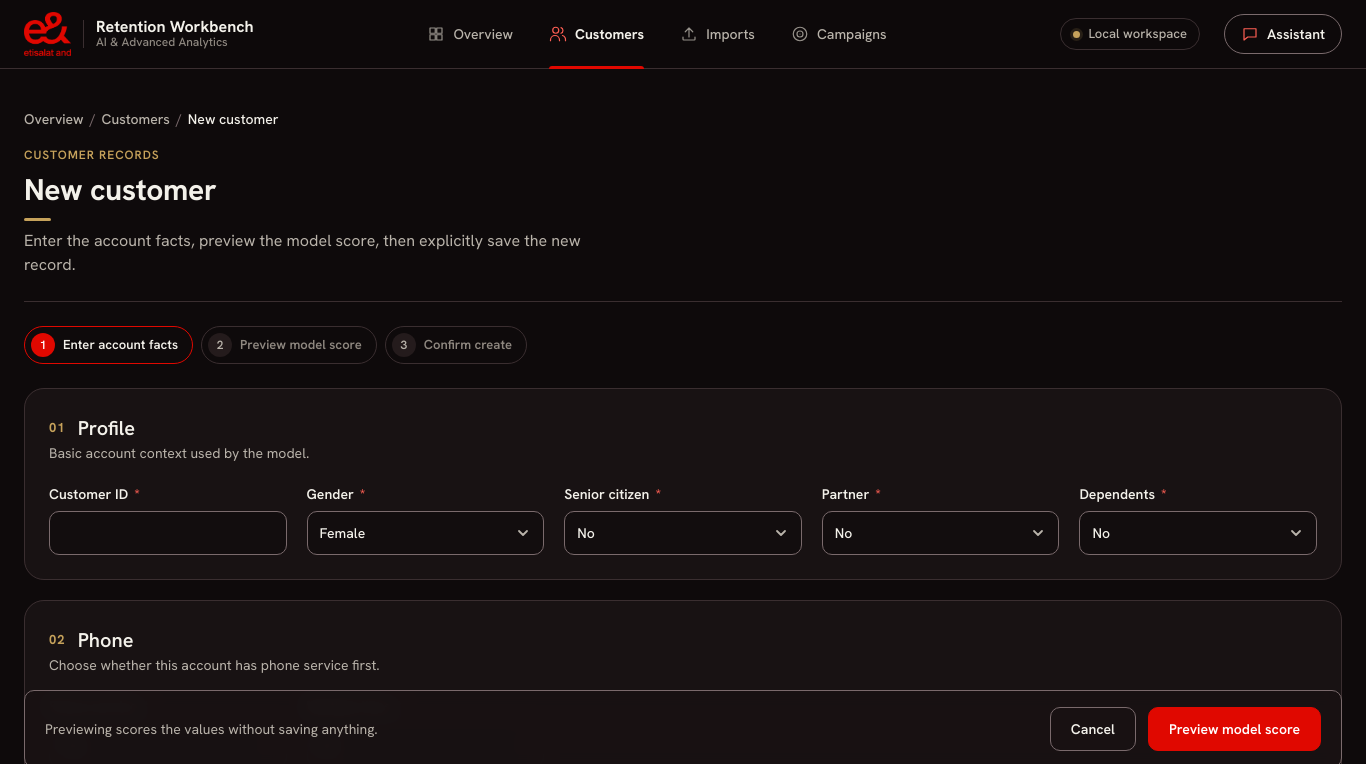
customer browser journeys › previews then explicitly persists a new customer
Expected: the heading "New customer" is shown, [24,170,216,209]
Type "journey-001" into the field labelled "Customer ID" at [168, 533], box [49,511,287,555]
(page scrolled)
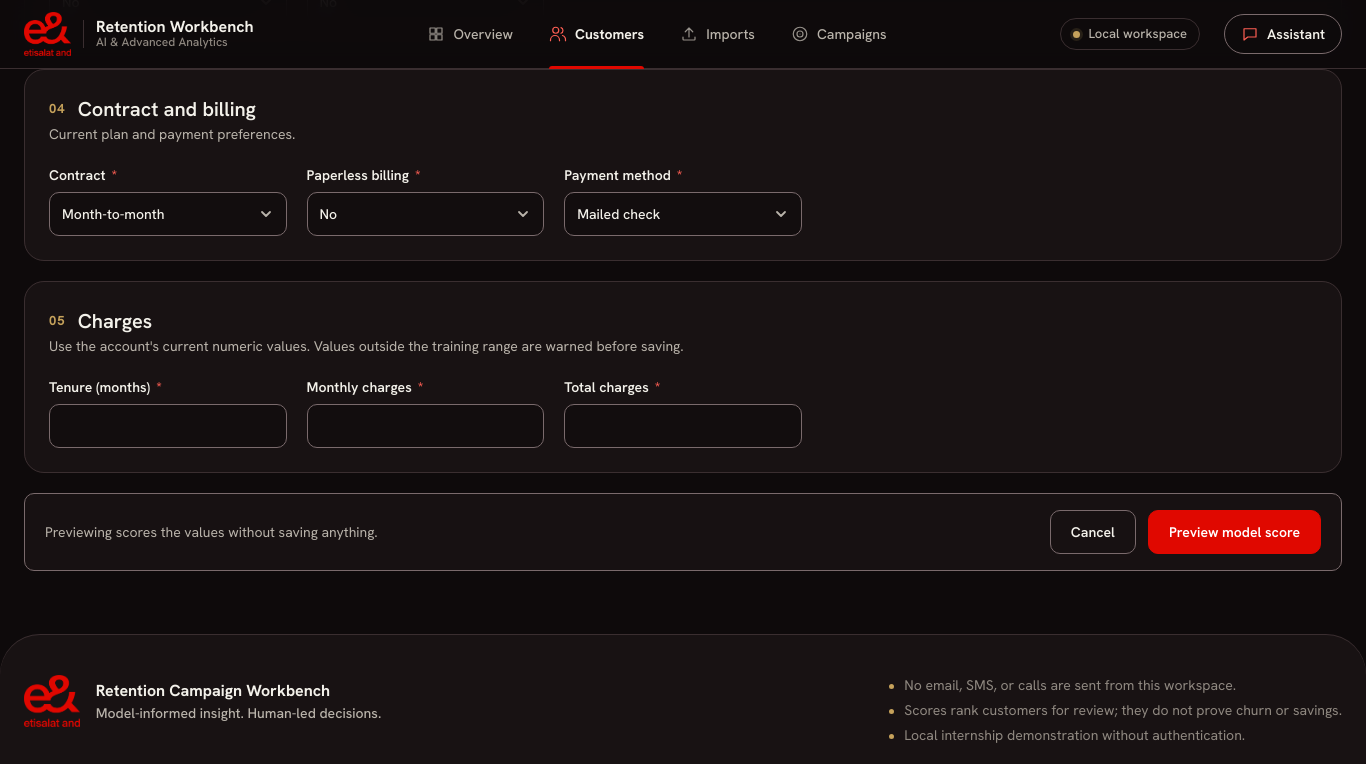
Type "3" into the number field labelled "Tenure (months)" at [168, 426], box [49,404,287,448]
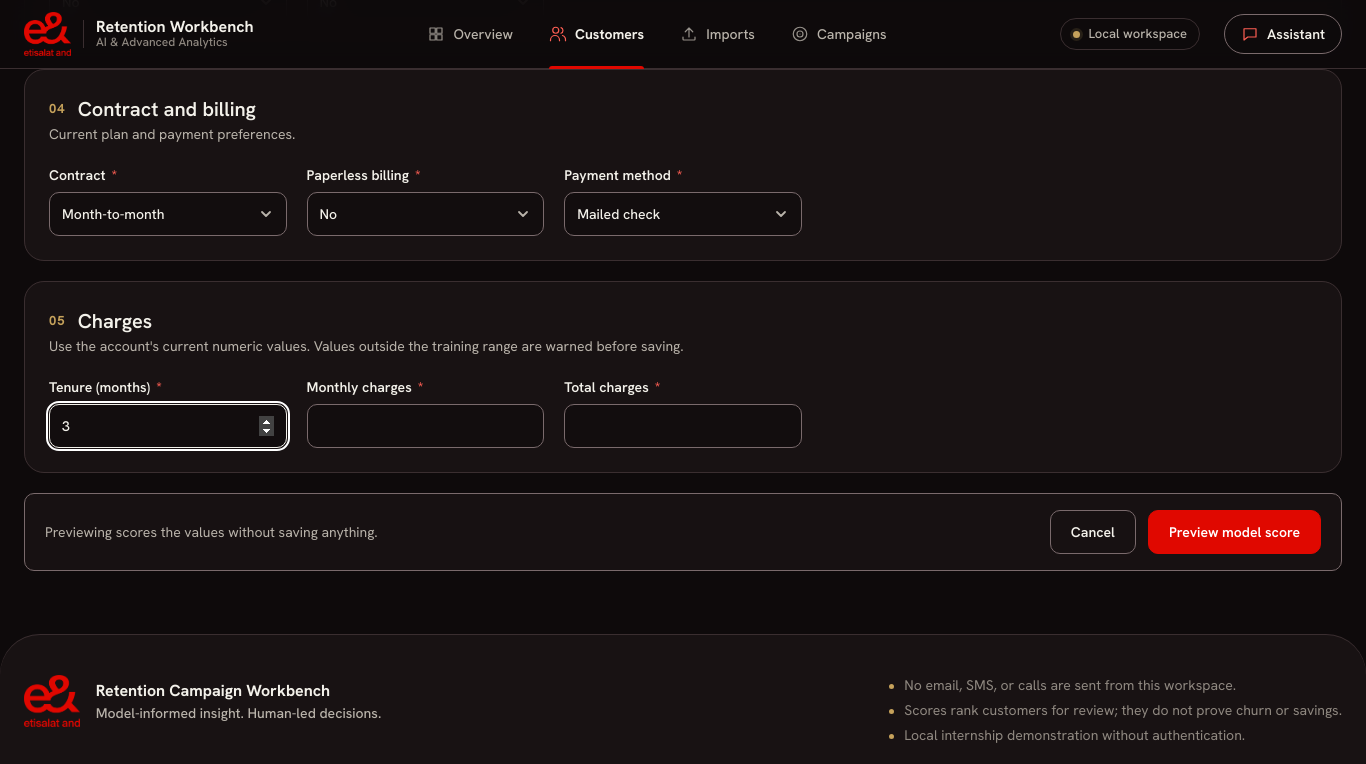
Type "89.5" into the number field labelled "Monthly charges" at [425, 426], box [307,404,544,448]
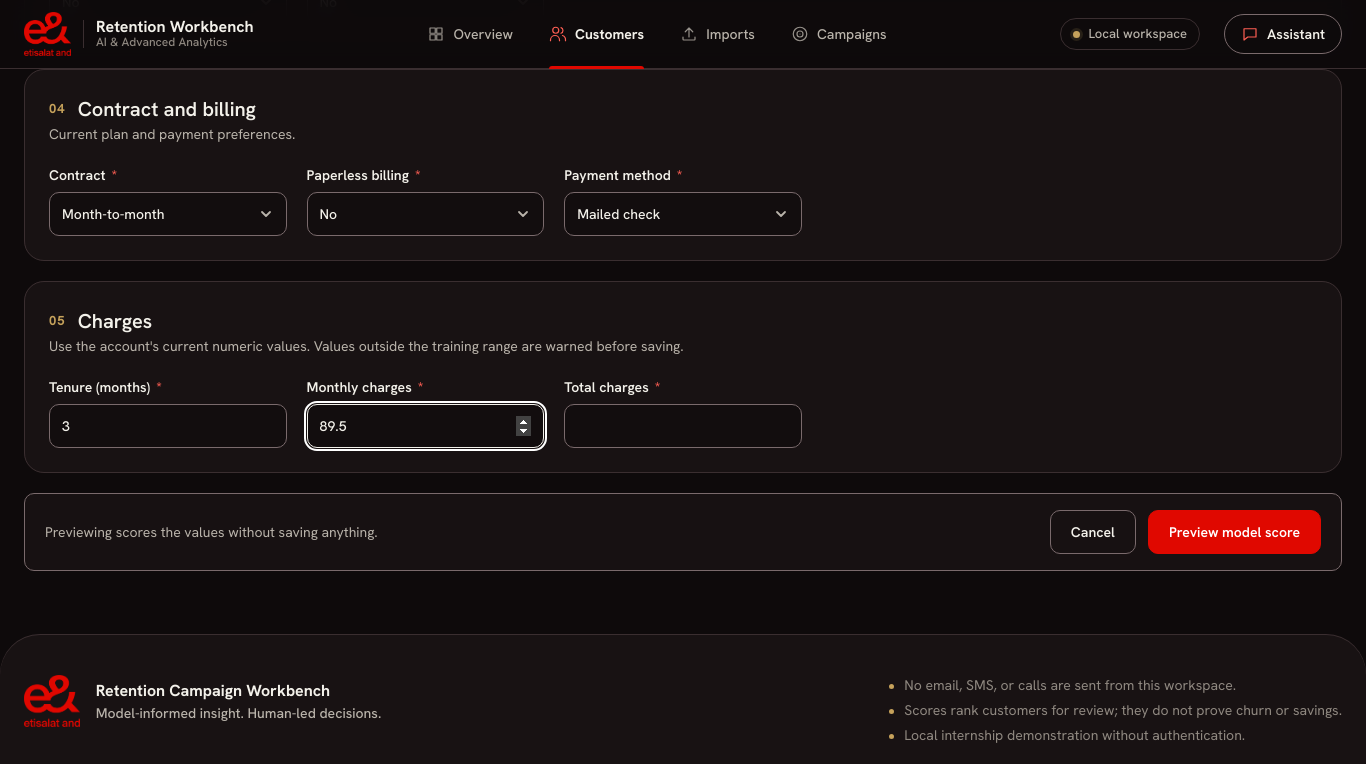
Type "268.5" into the number field labelled "Total charges" at [683, 426], box [564,404,802,448]
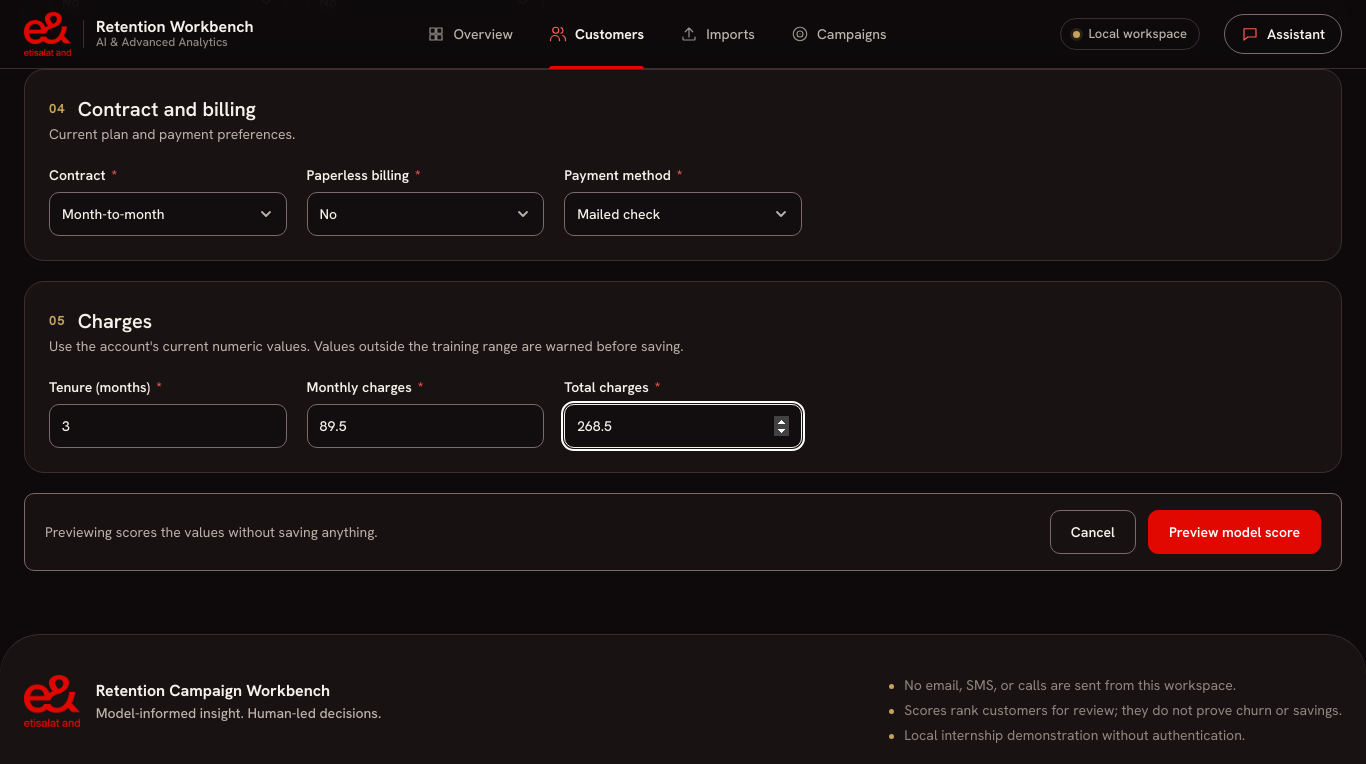
Click the button "Preview model score" at [1234, 532], box [1148,510,1321,554]
(page scrolled)
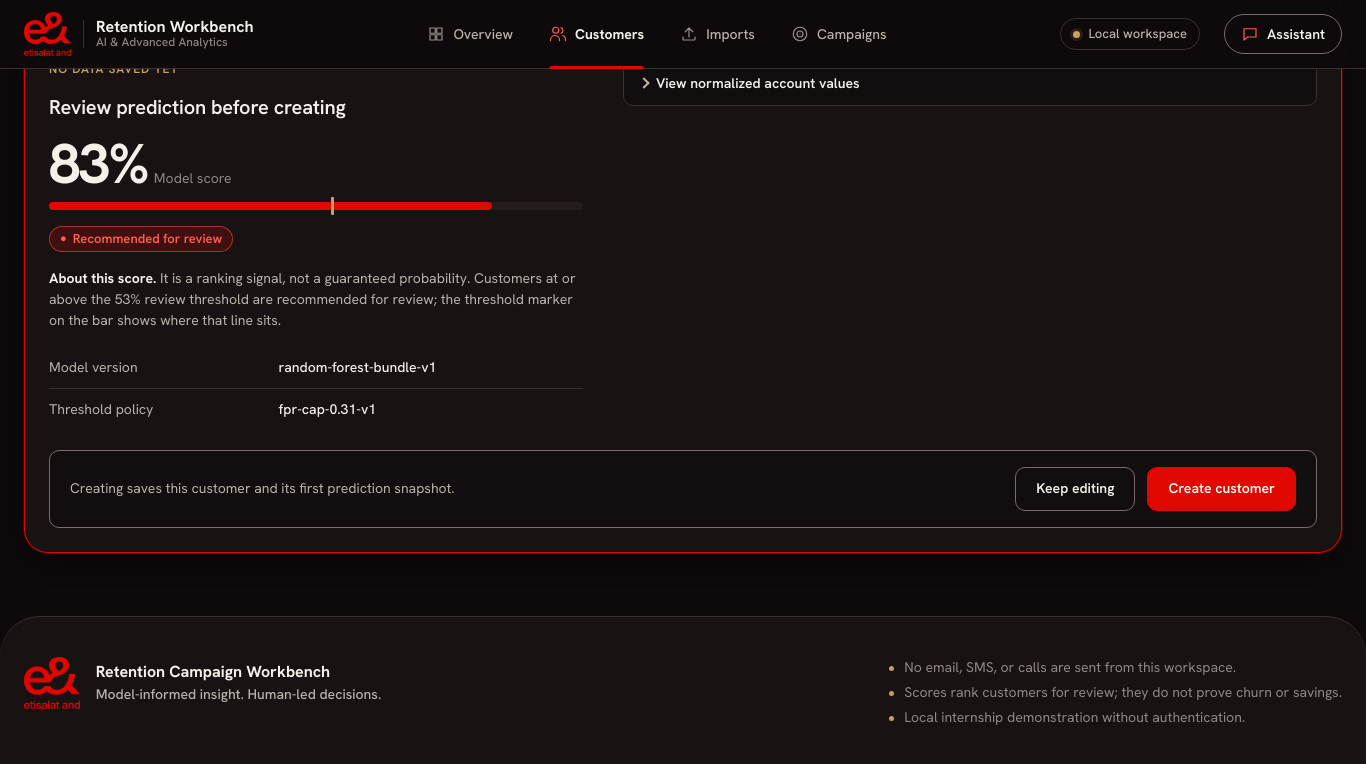
Expected: the heading "Review prediction before creating" is shown, [49,94,346,120]
Expected: the text "No data saved yet" is shown, [49,61,178,77]
Click the button "Create customer" at [1222, 488], box [1147,466,1296,510]
(page scrolled)
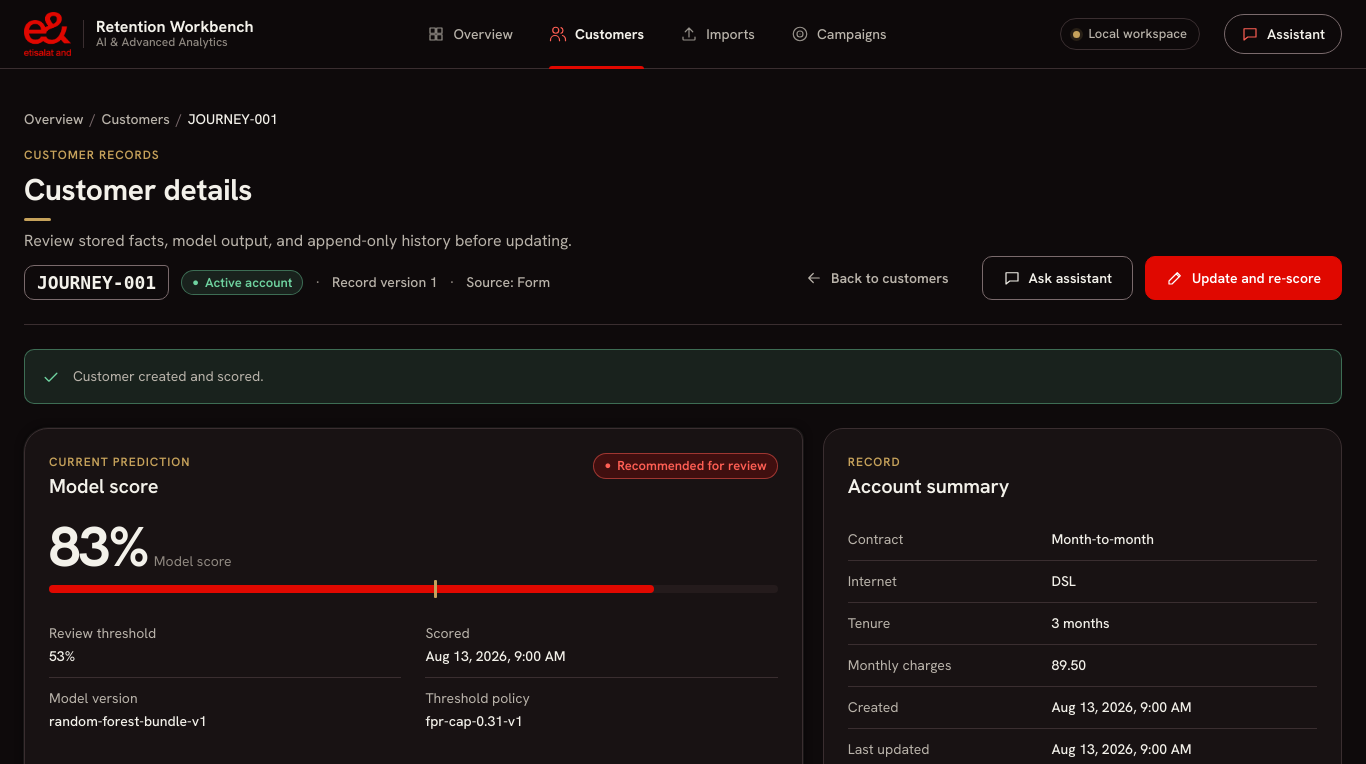
Expected: the heading "Customer details" is shown, [24,170,252,209]
Expected: the message reads "Customer created and scored.", [73,367,264,385]
